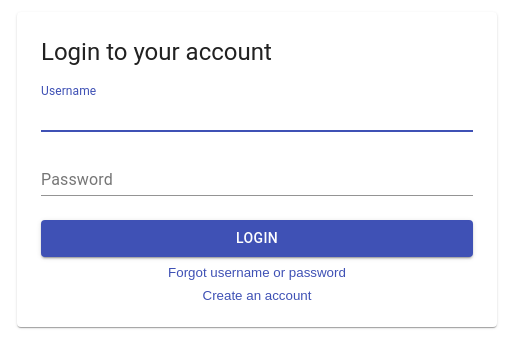
Test: LoginPage test › should render error on submitting empty form
Click the button "Login" at (257, 238), box [41,220,473,256]
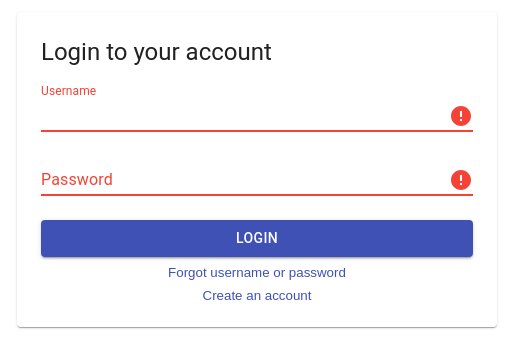
Result: the icon with test id "username-error-icon" is shown at [449,104,473,128]
Result: the icon with test id "password-error-icon" is shown at [449,168,473,192]
